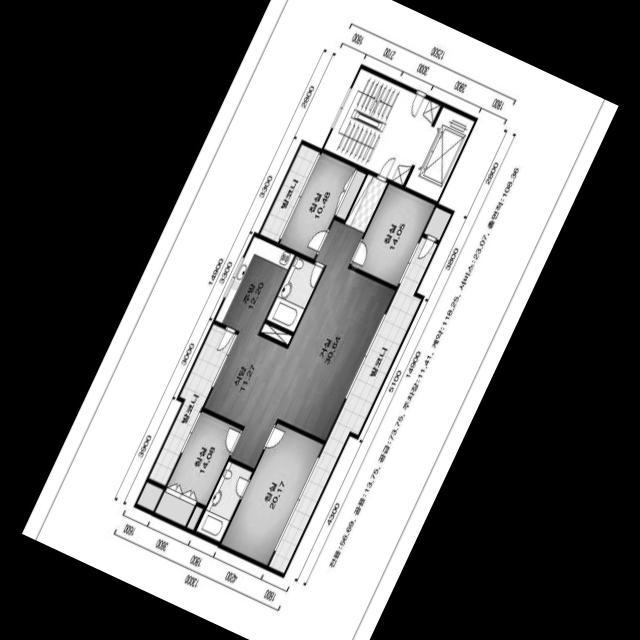background: (22, 0, 618, 640)
space_balconi: (269, 237, 438, 573), (149, 323, 236, 486), (260, 144, 320, 242)
space_bedroom: (221, 423, 324, 565), (155, 410, 241, 527), (279, 152, 366, 259), (351, 183, 435, 286)
space_elevator: (405, 106, 475, 202)
space_front: (345, 174, 388, 233)
space_kitchen: (204, 236, 295, 429)
space_living_room: (231, 220, 396, 468)
space_other: (424, 206, 452, 240), (137, 481, 164, 511), (261, 323, 292, 345), (187, 506, 203, 530)
space_staircase: (324, 68, 441, 185)
space_toilet: (196, 461, 253, 542), (266, 256, 324, 332)
